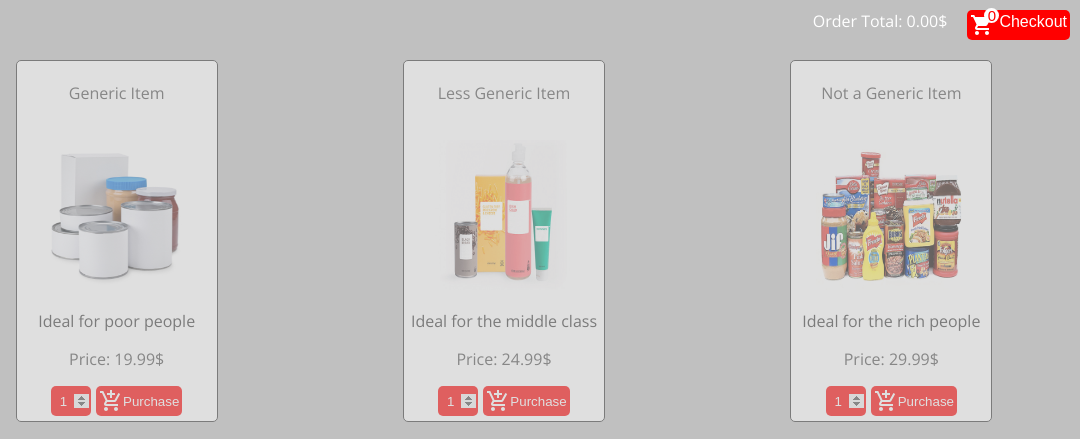
Scenario: Add three items to cart › adds three different items to cart
Click the button "Purchase" below "19.99$" at (139, 401), box x1=96 y1=386 x2=182 y2=416
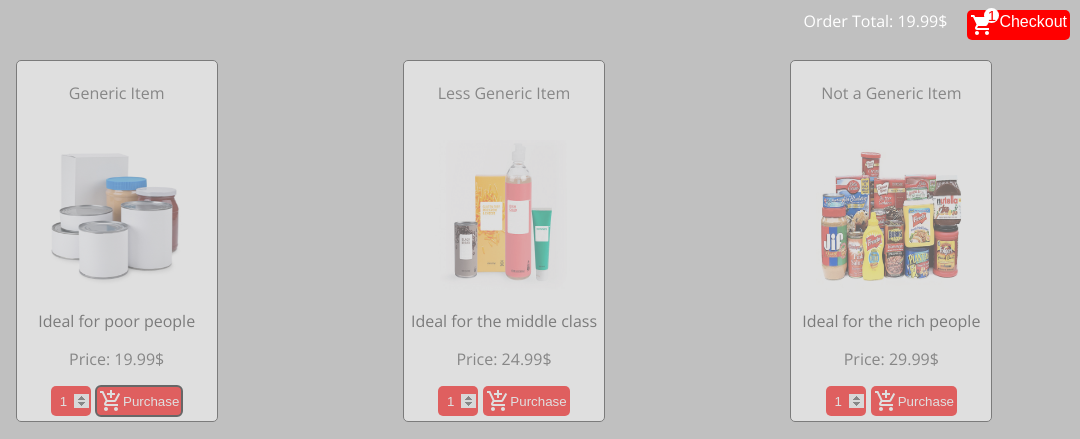
Click the button "Purchase" below "24.99$" at (526, 401), box x1=483 y1=386 x2=570 y2=416
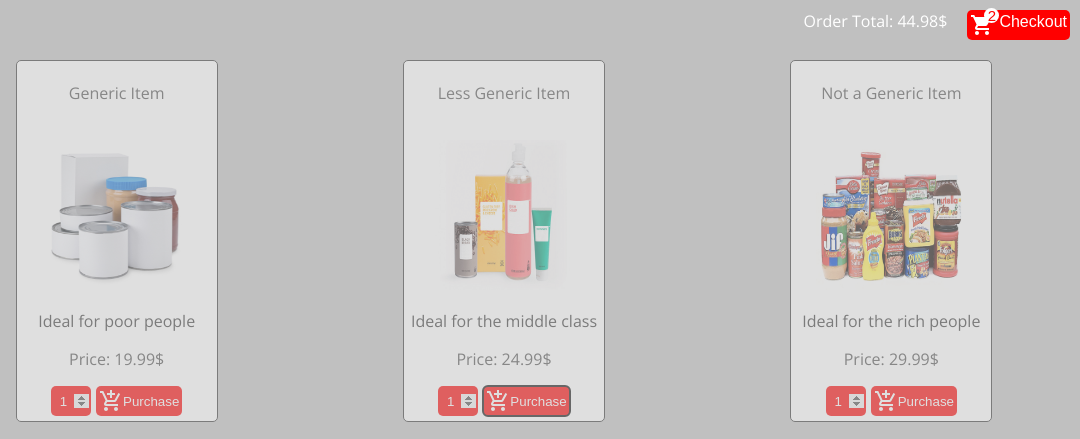
Click the button "Purchase" below "29.99$" at (914, 401), box x1=871 y1=386 x2=957 y2=416
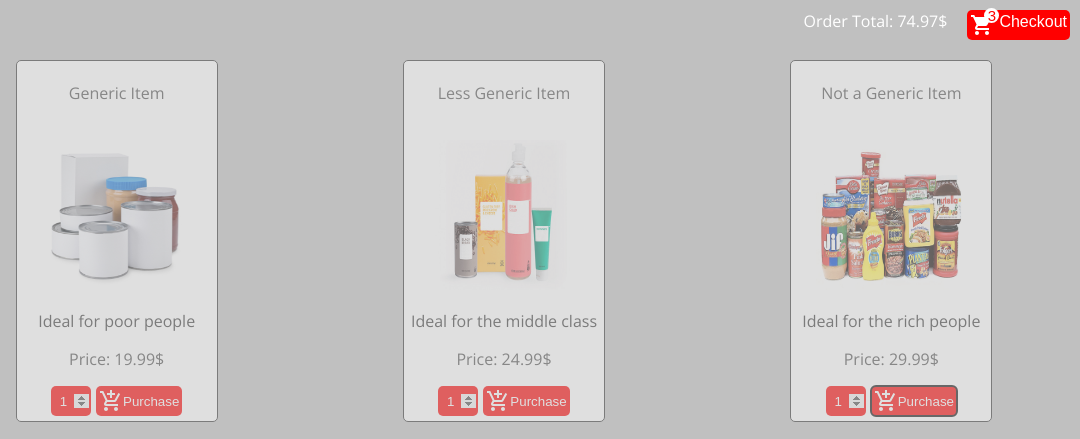
Now the icon with test id "quant" reads "3", box x1=988 y1=7 x2=996 y2=24
